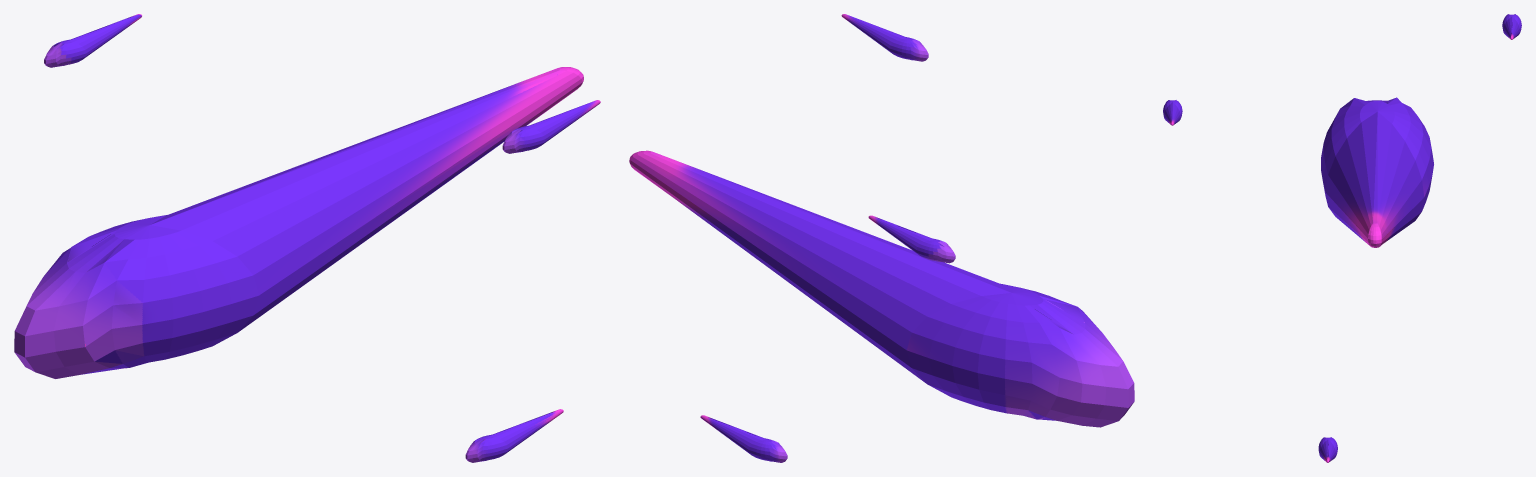
Rendered from SnailProjectile.fbx.
3 renders of one model, left to right at view 1: azimuth 30°, elevation 25°; view 2: azimuth 150°, elevation 25°; view 3: azimuth 270°, elevation 25°, orthographic. The views are drawn at different scales.
Parts seen in each view (by area): view 1: SnailProjectile; view 2: SnailProjectile; view 3: SnailProjectile.
Boxes of the visible parts, bbox=[...] form: SnailProjectile: bbox=[14, 14, 600, 462]; SnailProjectile: bbox=[629, 14, 1134, 462]; SnailProjectile: bbox=[1163, 14, 1521, 462].
Bounding box in the file's own units: 87.15 × 63.06 × 60.45.
